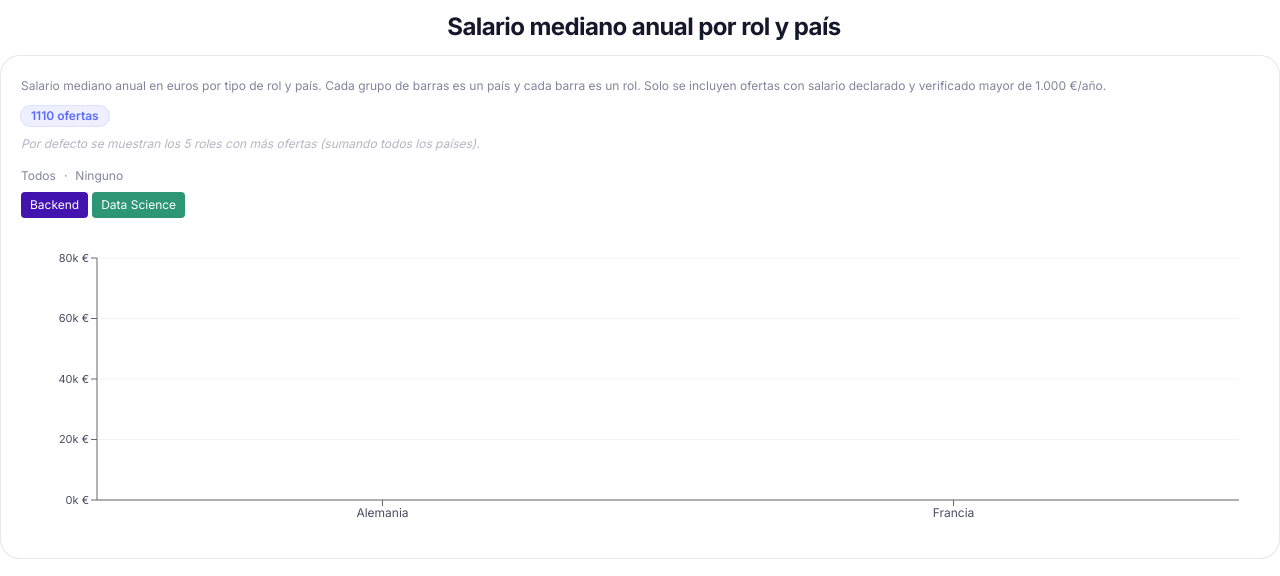
SalaryChart › selector de roles › al pulsar Ninguno muestra el mensaje de seleccionar rol
Click the button "Ninguno". click: x=99, y=176
box: [75,168,123,184]
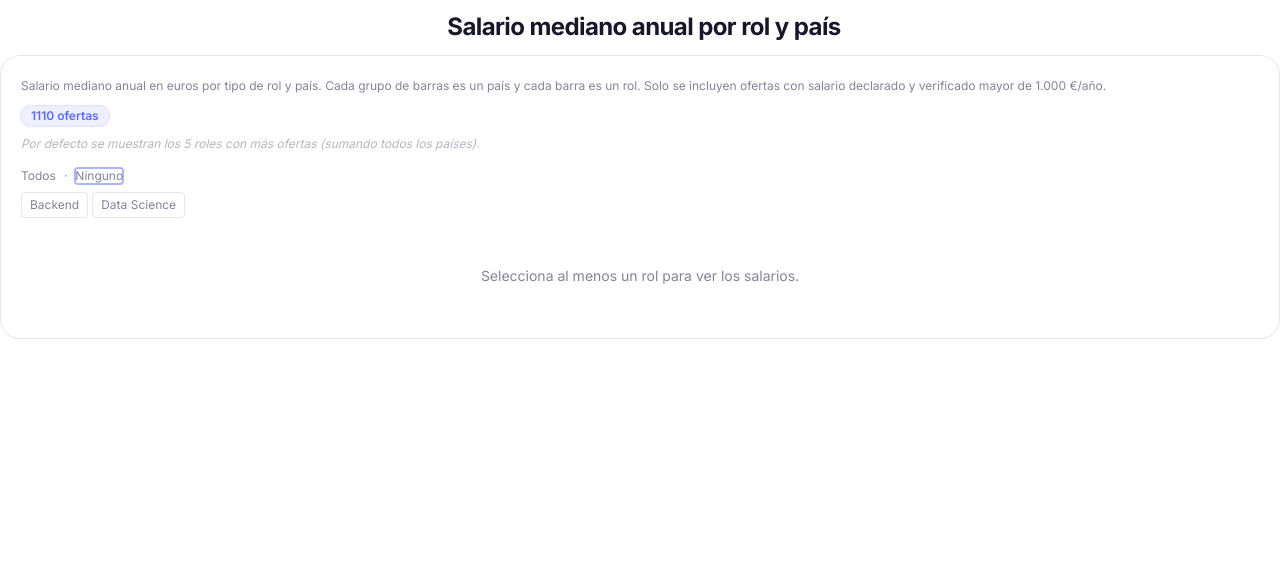
Check: the text "Selecciona al menos un rol para ver los salarios." is shown, box [481,266,799,284]
